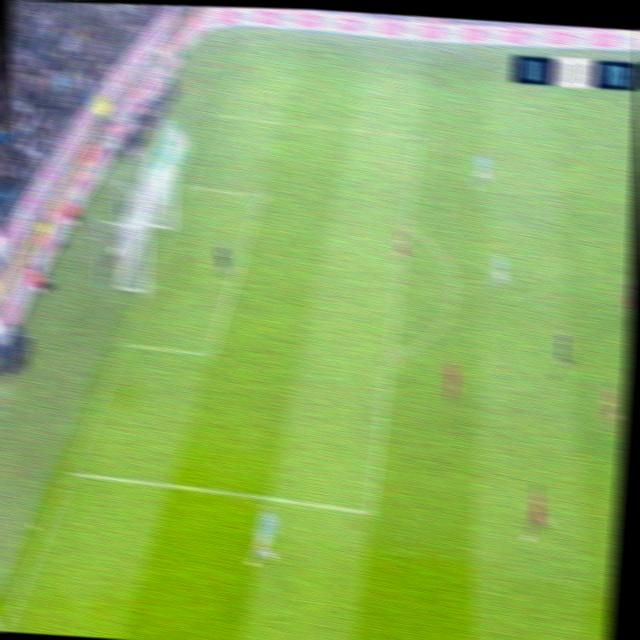bigarea_bottom_inner: (353, 499, 383, 525)
bigarea_bottom_outter: (63, 464, 78, 479)
bigarea_top_inner: (410, 128, 425, 145)
bigarea_top_outter: (212, 107, 226, 119)
bottom_arc_area_intersection: (382, 349, 398, 365)
corner: (241, 36, 258, 45)
smallarea_bottom_inner: (201, 343, 219, 360)
smallarea_bottom_outter: (117, 334, 135, 350)
smallarea_top_inner: (252, 187, 266, 202)
smallarea_top_outter: (182, 178, 199, 192)
top_arc_area_intersection: (398, 220, 413, 232)
